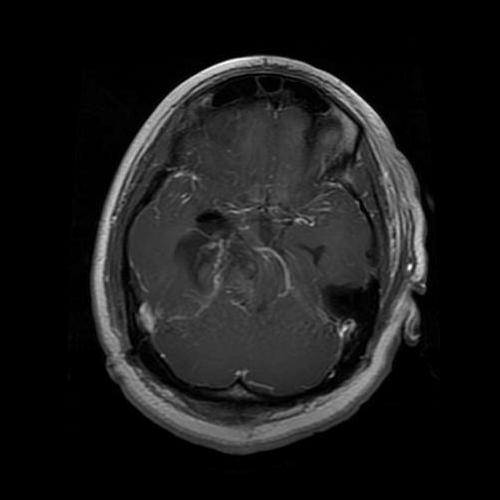Tumour-Glioma: (179, 209, 230, 286)
